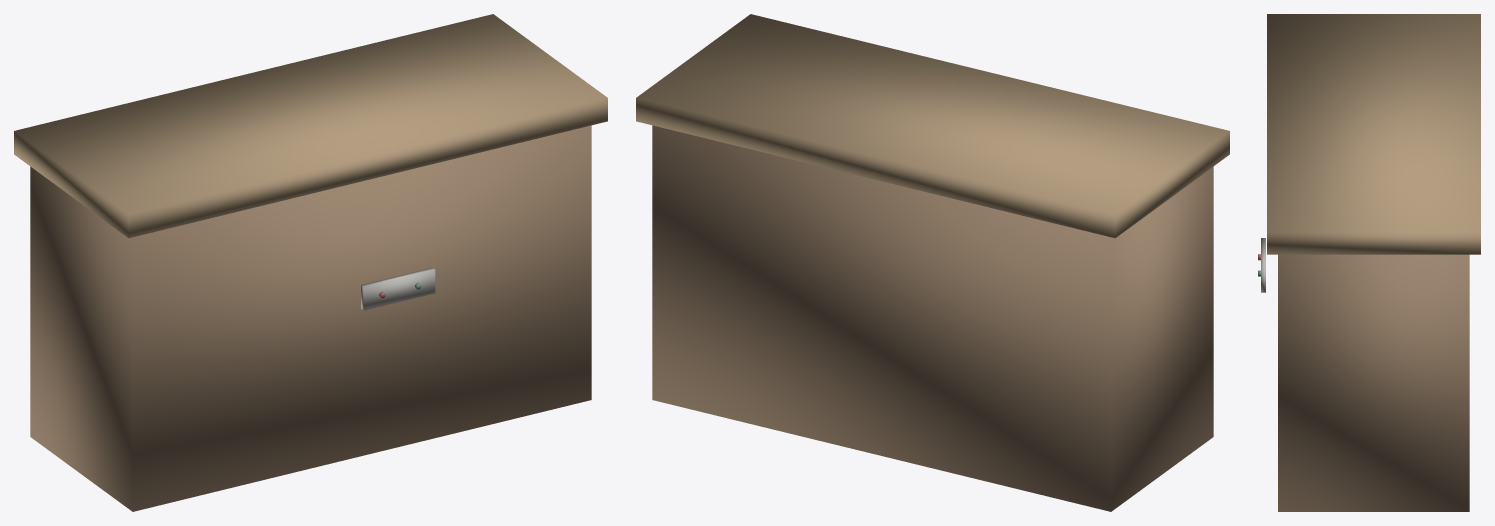
File: bank_teller_counter__compact.glb
The picture shows the model from 3 angles, left to right: view 1: azimuth 30°, elevation 25°; view 2: azimuth 150°, elevation 25°; view 3: azimuth 270°, elevation 25°; orthographic projection. The views are drawn at different scales.
Parts seen in each view (by area): view 1: world; view 2: world; view 3: world.
Part boxes in pixels (x1,y1,x2,y2): world: [14, 14, 607, 511]; world: [636, 14, 1229, 511]; world: [1258, 14, 1480, 511].
Bounding box in the file's own units: 1.58 × 0.9579 × 0.6803.
